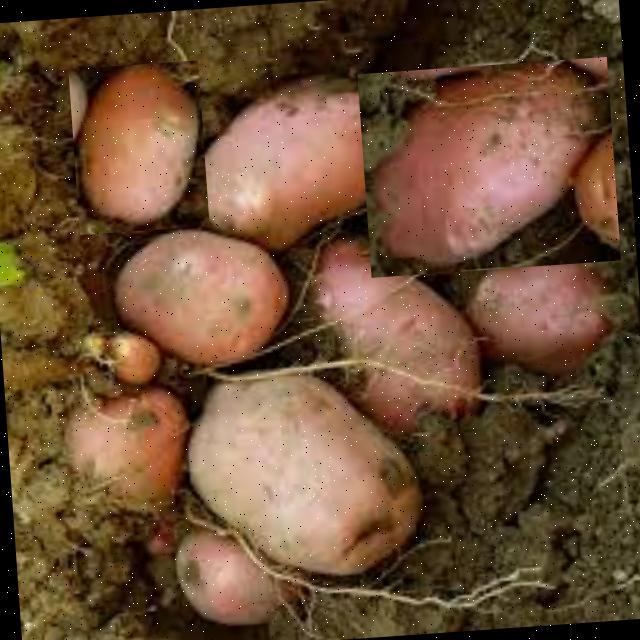Defected potato: (357, 56, 620, 276), (99, 210, 296, 373), (68, 58, 209, 234)
Diseased-fungal potato: (177, 353, 428, 592)
